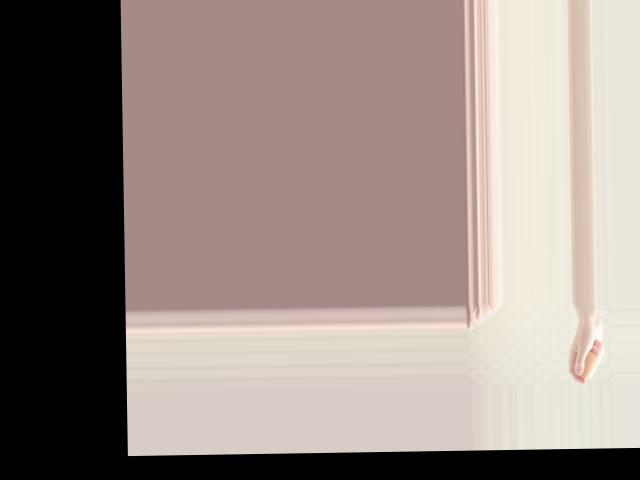egg: (576, 351, 598, 379)
